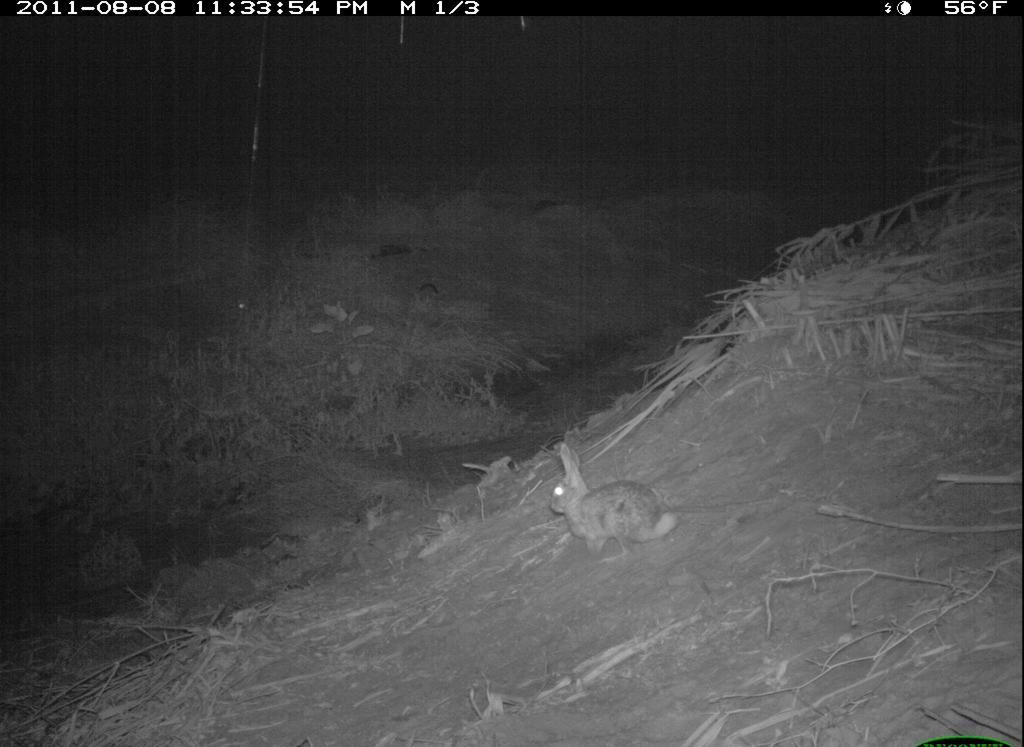rabbit: (528, 427, 711, 570)
